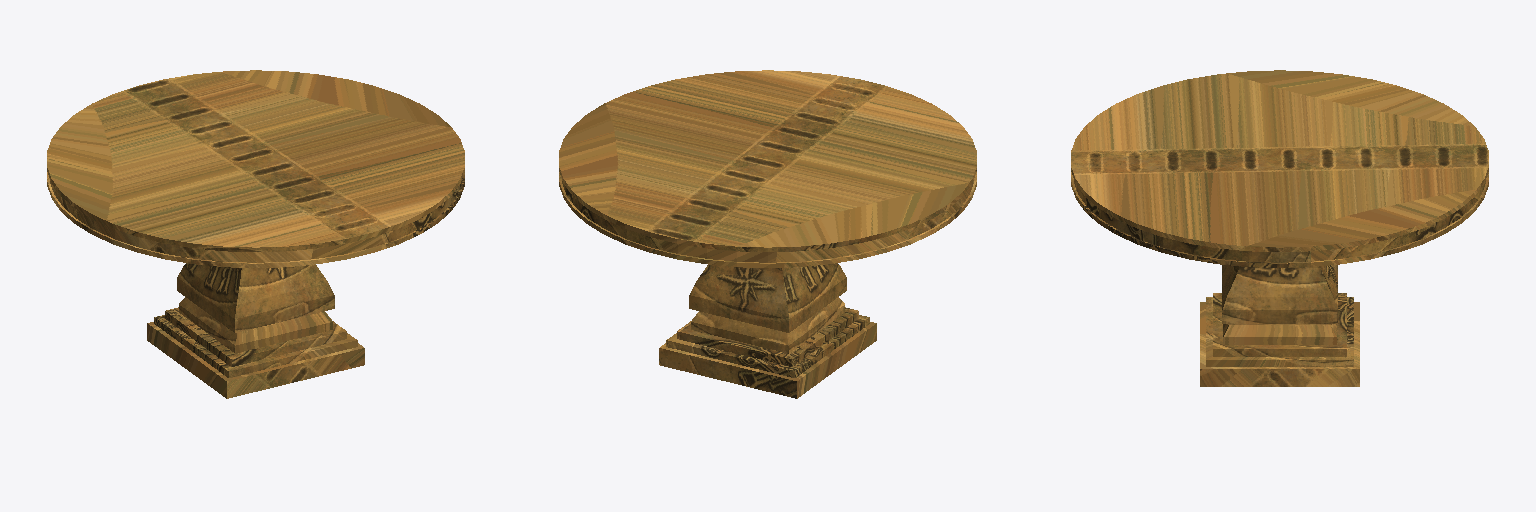
3 views of the same model, side by side, from view 1: azimuth 30°, elevation 25°; view 2: azimuth 150°, elevation 25°; view 3: azimuth 270°, elevation 25° (orthographic).
Parts seen in each view (by area): view 1: low_Mesh; view 2: low_Mesh; view 3: low_Mesh.
Part boxes in pixels (bbox=[...]): low_Mesh: bbox=[47, 70, 464, 398]; low_Mesh: bbox=[559, 70, 976, 398]; low_Mesh: bbox=[1071, 70, 1488, 386].
Size of the model in its own units: 1.87 by 0.9538 by 1.86.
Materials: 1 (1 with a texture image).